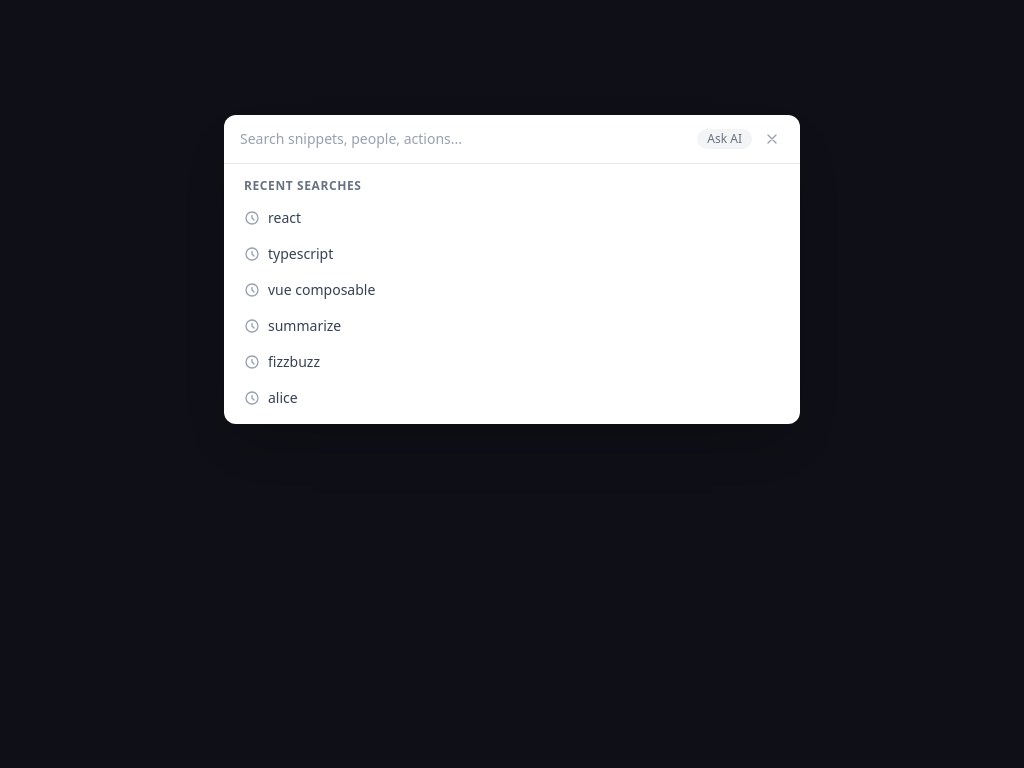
Scenario: TheSearchModal › renders groups in order: Snippets, AI Actions, People
The width and height of the screenshot is (1024, 768).
Type "react" into the field with placeholder "Search snippets, people, actions...". click: {"x": 465, "y": 139}
box: [240, 129, 689, 149]
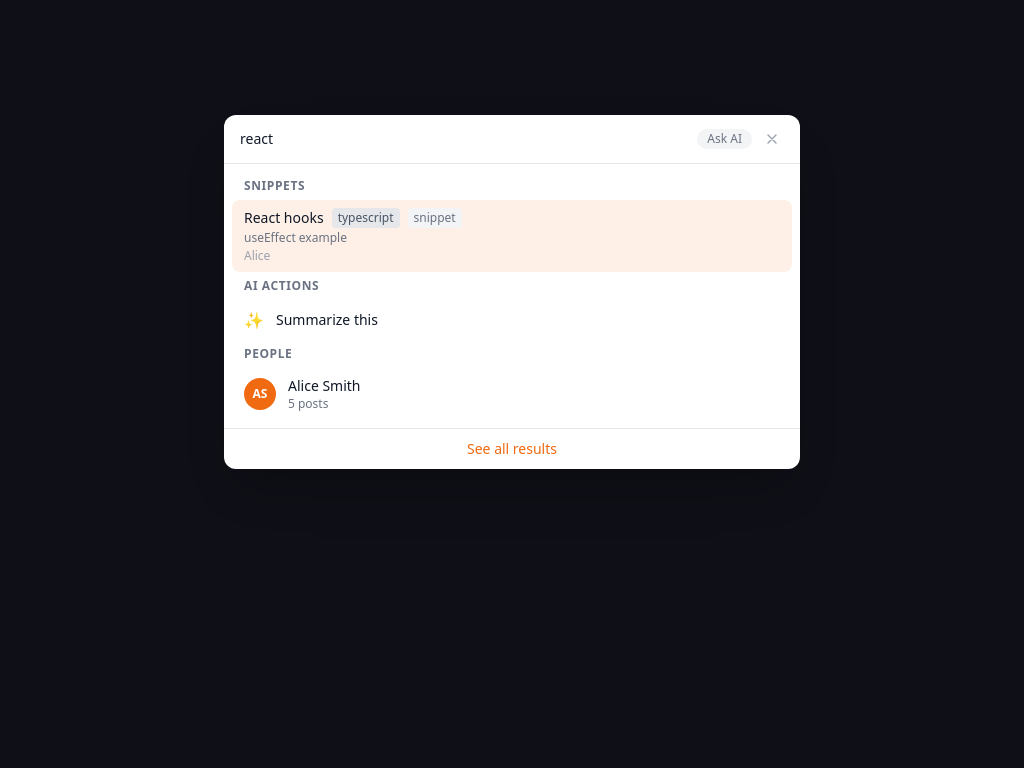
Check: the headings read "Snippets", "AI Actions", "People", in this order, box [244, 177, 305, 194]; [244, 277, 319, 294]; [244, 345, 292, 362]
